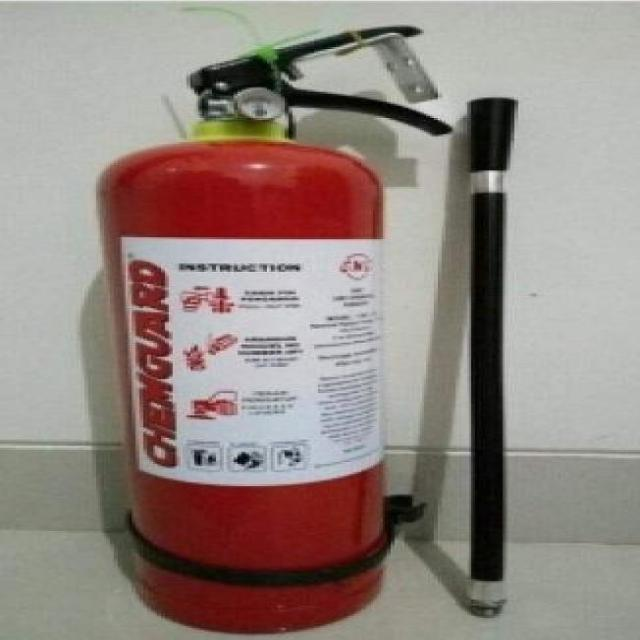fire_extinguisher: (84, 21, 460, 639)
